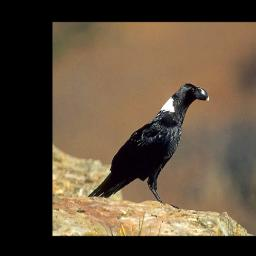Crow: (87, 82, 210, 210)
